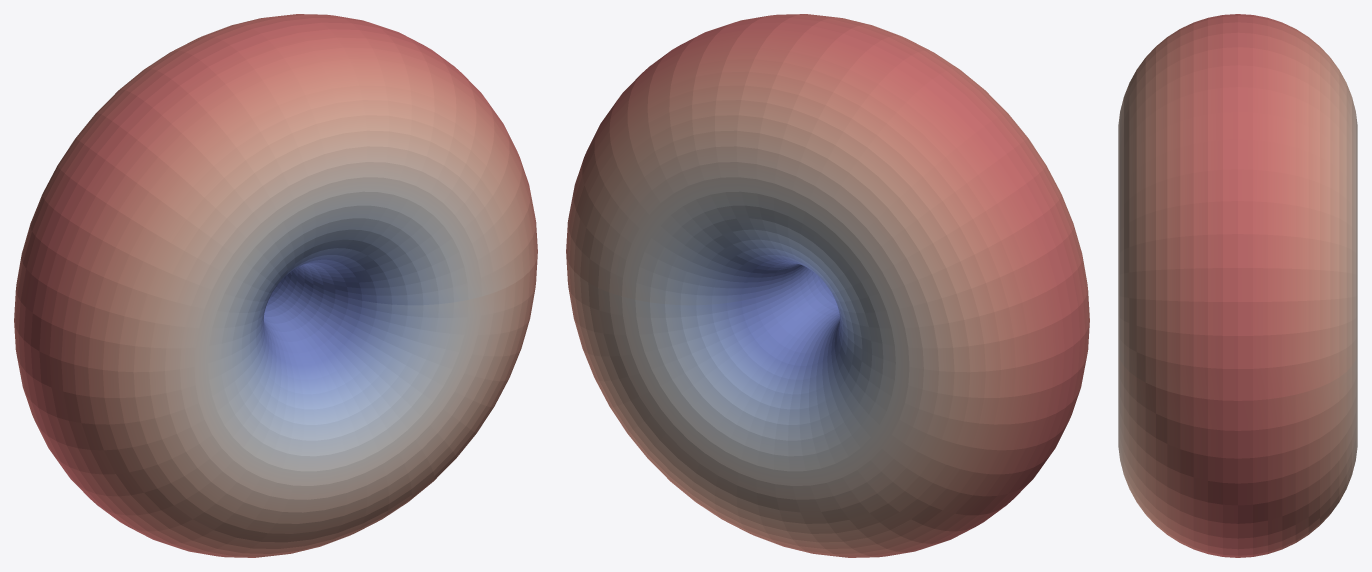
The picture shows the model from 3 angles, left to right: view 1: azimuth 30°, elevation 25°; view 2: azimuth 150°, elevation 25°; view 3: azimuth 270°, elevation 25°; orthographic projection. The views are drawn at different scales.
Parts seen in each view (by area): view 1: world; view 2: world; view 3: world.
Boxes of the visible parts, x1,y1,x2,y2 form: world: [14, 14, 537, 557]; world: [566, 14, 1089, 557]; world: [1118, 14, 1357, 557].
Bounding box in the file's own units: 22.67 × 22.62 × 9.98.
